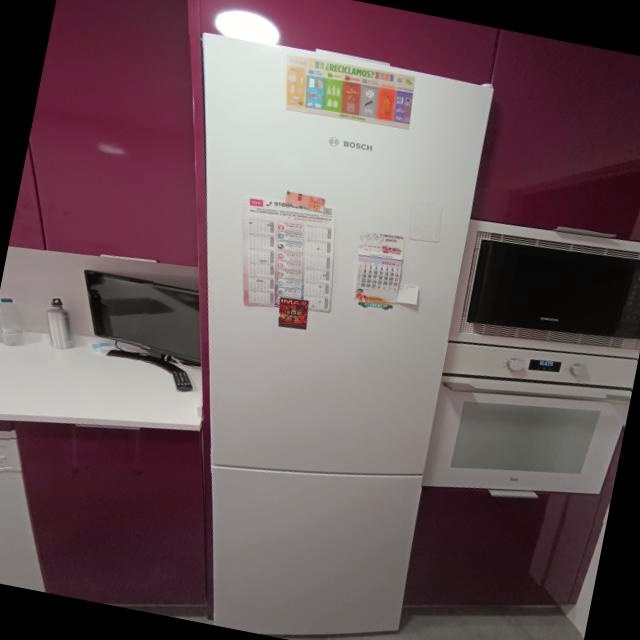cabinet: (8, 0, 200, 266), (13, 422, 214, 624), (473, 29, 640, 242), (188, 0, 500, 86), (402, 488, 606, 617)
countertop: (0, 343, 201, 434)
fridge: (199, 34, 494, 640)
microwave: (449, 221, 640, 361)
monitor: (84, 271, 201, 390)
oven: (422, 344, 637, 496)
